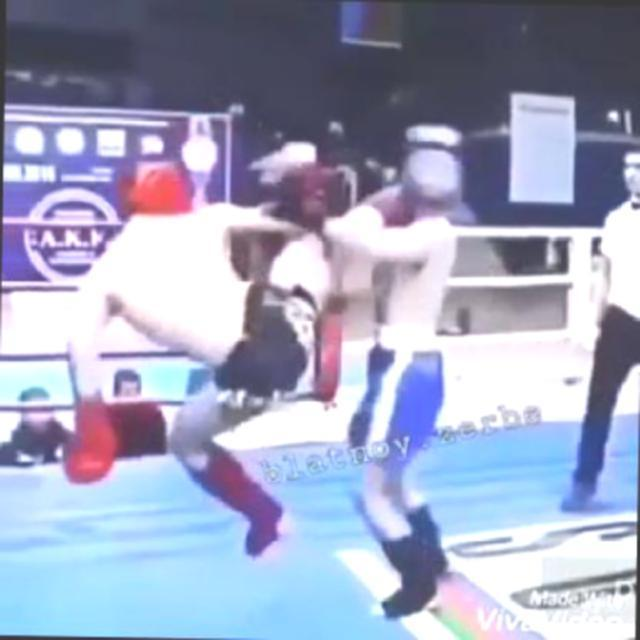fight: (68, 118, 452, 440)
